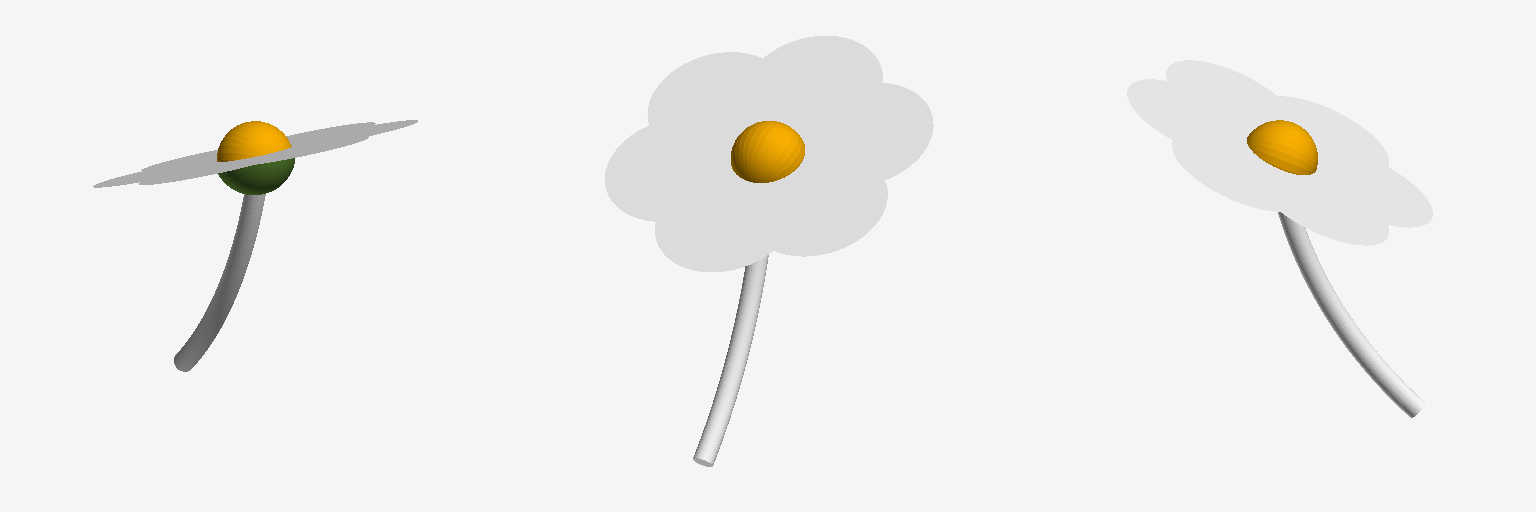
The model's file is flower.obj.
3 renders of one model, left to right at view 1: azimuth 30°, elevation 25°; view 2: azimuth 150°, elevation 25°; view 3: azimuth 270°, elevation 25°, orthographic.
Visible parts, largest first — view 1: Cylinder, Capsule, Capsule.1, Disc.2, Disc, Disc.3, Disc.5, Disc.4; view 2: Disc.4, Disc, Disc.3, Disc.5, Disc.2, Disc.1, Cylinder, Capsule; view 3: Cylinder, Disc.1, Disc.5, Disc.2, Disc.4, Disc, Disc.3, Capsule.
Part boxes in pixels (x1,y1,x2,y2): Cylinder: (174, 194, 265, 371); Capsule: (217, 121, 291, 161); Capsule.1: (218, 158, 294, 194); Disc.2: (139, 155, 278, 184); Disc: (228, 136, 368, 165); Disc.3: (93, 158, 217, 187); Disc.5: (282, 120, 417, 150); Disc.4: (286, 122, 375, 145); Disc.4: (605, 117, 739, 221); Disc: (742, 36, 882, 139); Disc.3: (747, 152, 887, 256); Disc.5: (647, 52, 787, 156); Disc.2: (798, 83, 933, 186); Disc.1: (655, 170, 795, 271); Cylinder: (693, 255, 768, 466); Capsule: (731, 121, 804, 182); Cylinder: (1278, 212, 1424, 417); Disc.1: (1306, 148, 1432, 227); Disc.5: (1172, 132, 1302, 211); Disc.2: (1166, 60, 1297, 135); Disc.4: (1258, 171, 1388, 245); Disc: (1127, 79, 1252, 158); Disc.3: (1258, 96, 1388, 175); Capsule: (1247, 120, 1317, 174).
Bounding box in the file's own units: 533 × 619 × 529.